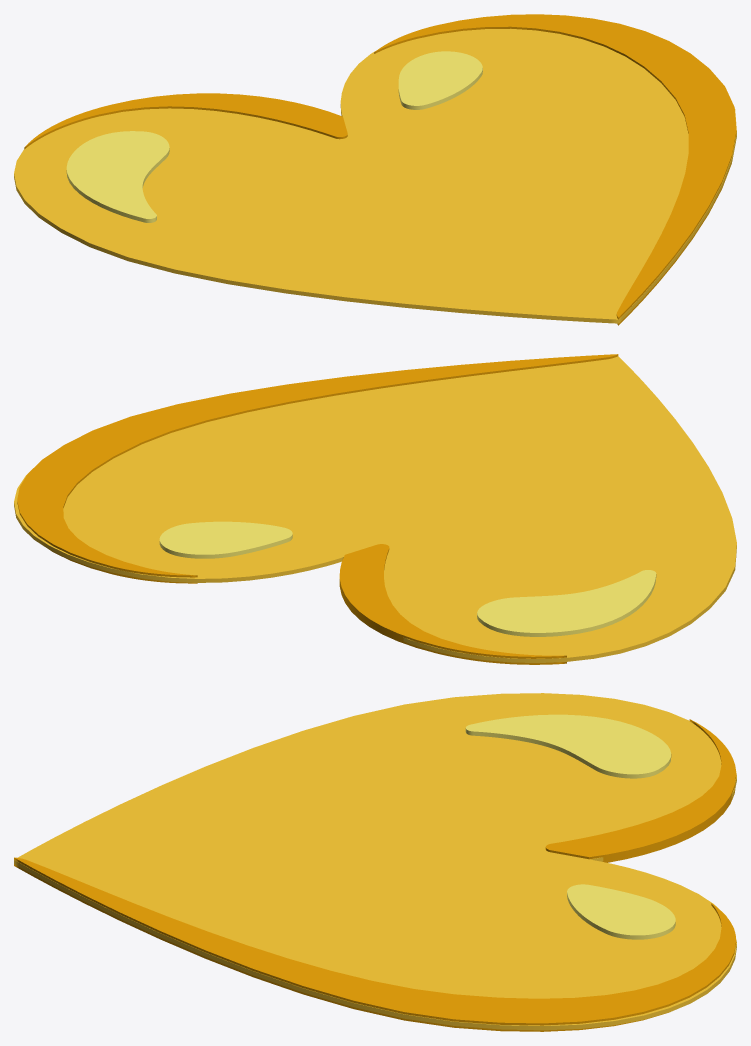
The model's file is emoji_u1f49b.glb.
3 views of the same model, one above another, from view 1: azimuth 30°, elevation 25°; view 2: azimuth 150°, elevation 25°; view 3: azimuth 270°, elevation 25° (orthographic). The views are drawn at different scales.
Visible parts, largest first — view 1: emoji_u1f49b; view 2: emoji_u1f49b; view 3: emoji_u1f49b.
Boxes of the visible parts, x1,y1,x2,y2 form: emoji_u1f49b: [14, 14, 736, 325]; emoji_u1f49b: [14, 354, 736, 664]; emoji_u1f49b: [14, 693, 736, 1031].
Size of the model in its own units: 0.0339 by 0.0006 by 0.0311.
